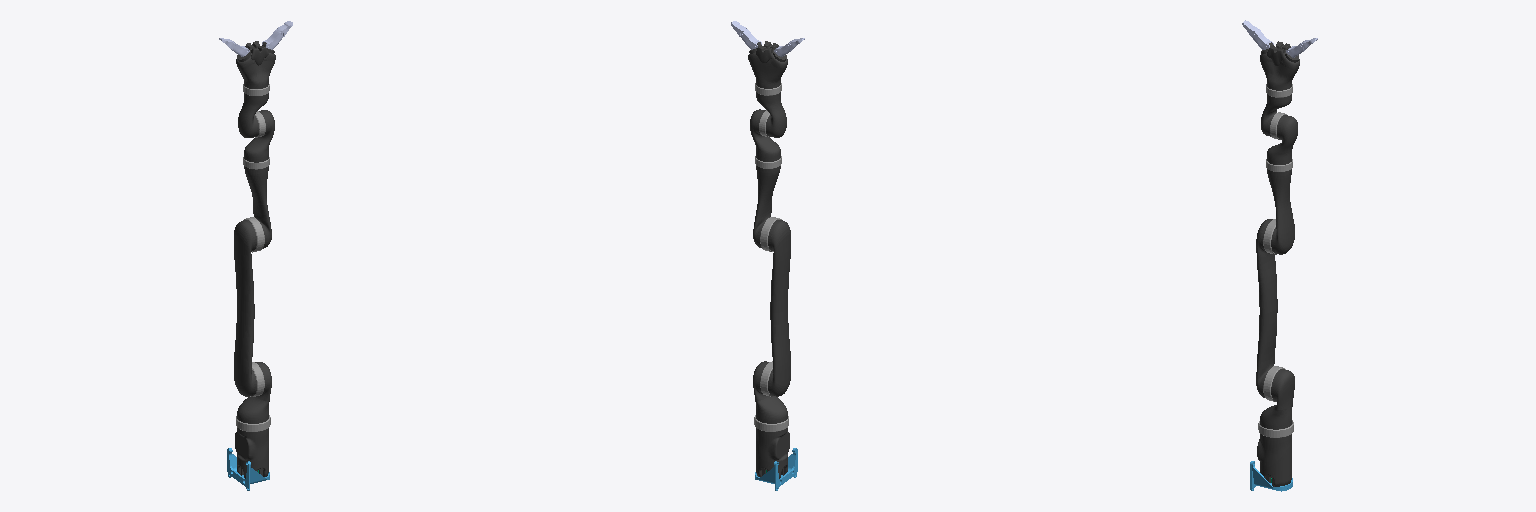
robot.urdf — kinova:
<?xml version="1.0" encoding="utf-8"?>
<!-- =================================================================================== -->
<!-- |    This document was autogenerated by xacro from anymal.urdf.xacro              | -->
<!-- |    EDITING THIS FILE BY HAND IS NOT RECOMMENDED                                 | -->
<!-- =================================================================================== -->
<!-- This file contains the description of the ANYmal Bedi robot. -->
<robot name="kinova"
    xmlns:xacro="http://www.ros.org/wiki/xacro">
    <material name="black">
        <color rgba="0.0 0.0 0.0 1.0"/>
    </material>
    <material name="blue">
        <color rgba="0.0 0.0 0.8 1.0"/>
    </material>
    <material name="green">
        <color rgba="0.0 0.8 0.0 1.0"/>
    </material>
    <material name="grey">
        <color rgba="0.2 0.2 0.2 1.0"/>
    </material>
    <material name="light_grey">
        <color rgba="0.4 0.4 0.4 1.0"/>
    </material>
    <material name="orange">
        <color rgba="1.0 0.423529411765 0.0392156862745 1.0"/>
    </material>
    <material name="brown">
        <color rgba="0.870588235294 0.811764705882 0.764705882353 1.0"/>
    </material>
    <material name="red">
        <color rgba="0.8 0.0 0.0 1.0"/>
    </material>
    <material name="white">
        <color rgba="1.0 1.0 1.0 1.0"/>
    </material>
    <!-- Material for the visual primitives -->
    <material name="anymal_material">
        <color rgba="0.7 0.7 0.7 1.0"/>
    </material>
    <!-- Xacro:Properties -->
    <!-- [m] -->
    <!-- Base link -->
    <link name="base"/>

    <link name="jaco_front_hatch_support_v2">
        <visual>
            <geometry>
                <mesh filename="package://kinova_description/meshes/jaco_front_hatch_support_v2.dae"/>
            </geometry>
        </visual>
    </link>
    <joint name="base_to_jaco_support" type="fixed">
        <parent link="base"/>
        <child link="jaco_front_hatch_support_v2"/>
        <origin rpy="0 0 0" xyz="0 0 0"/>
    </joint>

    <link name="jaco_mounting_block">
        <visual>
            <geometry>
                <mesh filename="package://kinova_description/meshes/jaco_mounting_block.dae"/>
            </geometry>
        </visual>
    </link>
    <joint name="jaco_support_to_jaco_mounting_block" type="fixed">
        <parent link="jaco_front_hatch_support_v2"/>
        <child link="jaco_mounting_block"/>
        <origin rpy="0 0 0" xyz="0.045 0.00 -0.007626"/>
    </joint>

    <link name="j2s6s200_link_base">
        <visual>
            <geometry>
                <mesh filename="package://kinova_description/meshes/base.dae"/>
            </geometry>
            <material name="carbon_fiber">
                <color rgba="0.3 0.3 0.3 1"/>
            </material>
        </visual>
        <collision>
            <geometry>
                <mesh filename="package://kinova_description/meshes/base.dae"/>
            </geometry>
        </collision>
        <inertial>
            <mass value="0.46784"/>
            <origin rpy="0 0 0" xyz="0 0 0.1255"/>
            <inertia ixx="0.000951270861568" ixy="0" ixz="0" iyy="0.000951270861568" iyz="0" izz="0.000374272"/>
        </inertial>
    </link>
    <joint name="jaco_mounting_block_to_j2s6s200_link_base" type="fixed">
        <parent link="jaco_mounting_block"/>
        <child link="j2s6s200_link_base"/>
        <axis xyz="0 0 0"/>
        <limit effort="0" lower="0" upper="0" velocity="0"/>
        <origin rpy="0 0 1.57079632679" xyz="0.000 0.000 0.000"/>
        <dynamics damping="0.0" friction="0.0"/>
    </joint>
    <link name="j2s6s200_link_1">
        <visual>
            <geometry>
                <mesh filename="package://kinova_description/meshes/shoulder.dae"/>
            </geometry>
            <material name="carbon_fiber">
                <color rgba="0.3 0.3 0.3 1"/>
            </material>
        </visual>
        <visual>
            <geometry>
                <mesh filename="package://kinova_description/meshes/ring_big.dae"/>
            </geometry>
        </visual>
        <collision>
            <geometry>
                <mesh filename="package://kinova_description/meshes/shoulder.dae"/>
            </geometry>
        </collision>
        <inertial>
            <mass value="0.7477"/>
            <origin xyz="0 -0.002 -0.0605"/>
            <inertia ixx="0.00152031725204" ixy="0" ixz="0" iyy="0.00152031725204" iyz="0" izz="0.00059816"/>
        </inertial>
    </link>
    <joint name="j2s6s200_joint_1" type="continuous">
        <parent link="j2s6s200_link_base"/>
        <child link="j2s6s200_link_1"/>
        <axis xyz="0 0 1"/>
        <limit effort="40" lower="-6.28318530718" upper="6.28318530718" velocity="0.628318530718"/>
        <origin rpy="0 3.14159265359 0" xyz="0 0 0.15675"/>
        <dynamics damping="0.0" friction="0.0"/>
    </joint>
    <transmission name="j2s6s200_joint_1_trans">
        <type>transmission_interface/SimpleTransmission</type>
        <joint name="j2s6s200_joint_1">
            <hardwareInterface>hardware_interface/EffortJointInterface</hardwareInterface>
        </joint>
        <actuator name="j2s6s200_joint_1_actuator">
            <hardwareInterface>hardware_interface/EffortJointInterface</hardwareInterface>
            <mechanicalReduction>160</mechanicalReduction>
        </actuator>
    </transmission>
    <link name="j2s6s200_link_2">
        <visual>
            <geometry>
                <mesh filename="package://kinova_description/meshes/arm.dae"/>
            </geometry>
            <material name="carbon_fiber">
                <color rgba="0.3 0.3 0.3 1"/>
            </material>
        </visual>
        <visual>
            <geometry>
                <mesh filename="package://kinova_description/meshes/ring_big.dae"/>
            </geometry>
        </visual>
        <collision>
            <geometry>
                <mesh filename="package://kinova_description/meshes/arm.dae"/>
            </geometry>
        </collision>
        <inertial>
            <mass value="0.99"/>
            <origin xyz="0 -0.2065 -0.01"/>
            <inertia ixx="0.010502207991" ixy="0" ixz="0" iyy="0.000792" iyz="0" izz="0.010502207991"/>
        </inertial>
    </link>
    <joint name="j2s6s200_joint_2" type="revolute">
        <parent link="j2s6s200_link_1"/>
        <child link="j2s6s200_link_2"/>
        <axis xyz="0 0 1"/>
        <limit effort="80" lower="0.820304748437" upper="5.46288055874" velocity="0.628318530718"/>
        <origin rpy="-1.57079632679 0 3.14159265359" xyz="0 0.0016 -0.11875"/>
        <dynamics damping="0.0" friction="0.0"/>
    </joint>
    <transmission name="j2s6s200_joint_2_trans">
        <type>transmission_interface/SimpleTransmission</type>
        <joint name="j2s6s200_joint_2">
            <hardwareInterface>hardware_interface/EffortJointInterface</hardwareInterface>
        </joint>
        <actuator name="j2s6s200_joint_2_actuator">
            <hardwareInterface>hardware_interface/EffortJointInterface</hardwareInterface>
            <mechanicalReduction>160</mechanicalReduction>
        </actuator>
    </transmission>
    <link name="j2s6s200_link_3">
        <visual>
            <geometry>
                <mesh filename="package://kinova_description/meshes/forearm.dae"/>
            </geometry>
            <material name="carbon_fiber">
                <color rgba="0.3 0.3 0.3 1"/>
            </material>
        </visual>
        <visual>
            <geometry>
                <mesh filename="package://kinova_description/meshes/ring_big.dae"/>
            </geometry>
        </visual>
        <collision>
            <geometry>
                <mesh filename="package://kinova_description/meshes/forearm.dae"/>
            </geometry>
        </collision>
        <inertial>
            <mass value="0.6763"/>
            <origin xyz="0 0.081 -0.0086"/>
            <inertia ixx="0.00142022431908" ixy="0" ixz="0" iyy="0.000304335" iyz="0" izz="0.00142022431908"/>
        </inertial>
    </link>
    <joint name="j2s6s200_joint_3" type="revolute">
        <parent link="j2s6s200_link_2"/>
        <child link="j2s6s200_link_3"/>
        <axis xyz="0 0 1"/>
        <limit effort="40" lower="0.331612557879" upper="5.9515727493" velocity="0.628318530718"/>
        <origin rpy="0 3.14159265359 0" xyz="0 -0.410 0"/>
        <dynamics damping="0.0" friction="0.0"/>
    </joint>
    <transmission name="j2s6s200_joint_3_trans">
        <type>transmission_interface/SimpleTransmission</type>
        <joint name="j2s6s200_joint_3">
            <hardwareInterface>hardware_interface/EffortJointInterface</hardwareInterface>
        </joint>
        <actuator name="j2s6s200_joint_3_actuator">
            <hardwareInterface>hardware_interface/EffortJointInterface</hardwareInterface>
            <mechanicalReduction>160</mechanicalReduction>
        </actuator>
    </transmission>
    <link name="j2s6s200_link_4">
        <visual>
            <geometry>
                <mesh filename="package://kinova_description/meshes/wrist_spherical_1.dae"/>
            </geometry>
            <material name="carbon_fiber">
                <color rgba="0.3 0.3 0.3 1"/>
            </material>
        </visual>
        <visual>
            <geometry>
                <mesh filename="package://kinova_description/meshes/ring_small.dae"/>
            </geometry>
        </visual>
        <collision>
            <geometry>
                <mesh filename="package://kinova_description/meshes/wrist_spherical_1.dae"/>
            </geometry>
        </collision>
        <inertial>
            <mass value="0.463"/>
            <origin xyz="0 0.0028848942 -0.0541932613"/>
            <inertia ixx="0.0004321316048" ixy="0" ixz="0" iyy="0.0004321316048" iyz="0" izz="9.26e-05"/>
        </inertial>
    </link>
    <joint name="j2s6s200_joint_4" type="continuous">
        <parent link="j2s6s200_link_3"/>
        <child link="j2s6s200_link_4"/>
        <axis xyz="0 0 1"/>
        <limit effort="20" lower="-6.28318530718" upper="6.28318530718" velocity="0.837758040957"/>
        <origin rpy="-1.57079632679 0 3.14159265359" xyz="0 0.2073 -0.0114"/>
        <dynamics damping="0.0" friction="0.0"/>
    </joint>
    <transmission name="j2s6s200_joint_4_trans">
        <type>transmission_interface/SimpleTransmission</type>
        <joint name="j2s6s200_joint_4">
            <hardwareInterface>hardware_interface/EffortJointInterface</hardwareInterface>
        </joint>
        <actuator name="j2s6s200_joint_4_actuator">
            <hardwareInterface>hardware_interface/EffortJointInterface</hardwareInterface>
            <mechanicalReduction>160</mechanicalReduction>
        </actuator>
    </transmission>
    <link name="j2s6s200_link_5">
        <visual>
            <geometry>
                <mesh filename="package://kinova_description/meshes/wrist_spherical_2.dae"/>
            </geometry>
            <material name="carbon_fiber">
                <color rgba="0.3 0.3 0.3 1"/>
            </material>
        </visual>
        <visual>
            <geometry>
                <mesh filename="package://kinova_description/meshes/ring_small.dae"/>
            </geometry>
        </visual>
        <collision>
            <geometry>
                <mesh filename="package://kinova_description/meshes/wrist_spherical_2.dae"/>
            </geometry>
        </collision>
        <inertial>
            <mass value="0.463"/>
            <origin xyz="0 0.0497208855 -0.0028562765"/>
            <inertia ixx="0.0004321316048" ixy="0" ixz="0" iyy="9.26e-05" iyz="0" izz="0.0004321316048"/>
        </inertial>
    </link>
    <joint name="j2s6s200_joint_5" type="revolute">
        <parent link="j2s6s200_link_4"/>
        <child link="j2s6s200_link_5"/>
        <axis xyz="0 0 1"/>
        <limit effort="20" lower="0.523598775598" upper="5.75958653158" velocity="0.837758040957"/>
        <origin rpy="1.57079632679 0 3.14159265359" xyz="0 0 -0.10375"/>
        <dynamics damping="0.0" friction="0.0"/>
    </joint>
    <transmission name="j2s6s200_joint_5_trans">
        <type>transmission_interface/SimpleTransmission</type>
        <joint name="j2s6s200_joint_5">
            <hardwareInterface>hardware_interface/EffortJointInterface</hardwareInterface>
        </joint>
        <actuator name="j2s6s200_joint_5_actuator">
            <hardwareInterface>hardware_interface/EffortJointInterface</hardwareInterface>
            <mechanicalReduction>160</mechanicalReduction>
        </actuator>
    </transmission>
    <link name="j2s6s200_link_6">
        <visual>
            <geometry>
                <mesh filename="package://kinova_description/meshes/hand_2finger.dae"/>
            </geometry>
            <material name="carbon_fiber">
                <color rgba="0.3 0.3 0.3 1"/>
            </material>
        </visual>
        <visual>
            <geometry>
                <mesh filename="package://kinova_description/meshes/ring_small.dae"/>
            </geometry>
        </visual>
        <collision>
            <geometry>
                <mesh filename="package://kinova_description/meshes/hand_2finger.dae"/>
            </geometry>
        </collision>
        <inertial>
            <mass value="0.99"/>
            <origin xyz="0 0 -0.06"/>
            <inertia ixx="0.0003453236187" ixy="0" ixz="0" iyy="0.0003453236187" iyz="0" izz="0.0005816"/>
        </inertial>
    </link>
    <joint name="j2s6s200_joint_6" type="continuous">
        <parent link="j2s6s200_link_5"/>
        <child link="j2s6s200_link_6"/>
        <axis xyz="0 0 1"/>
        <limit effort="20" lower="-6.28318530718" upper="6.28318530718" velocity="0.837758040957"/>
        <origin rpy="-1.57079632679 0 3.14159265359" xyz="0 0.10375 0"/>
        <dynamics damping="0.0" friction="0.0"/>
    </joint>
    <transmission name="j2s6s200_joint_6_trans">
        <type>transmission_interface/SimpleTransmission</type>
        <joint name="j2s6s200_joint_6">
            <hardwareInterface>hardware_interface/EffortJointInterface</hardwareInterface>
        </joint>
        <actuator name="j2s6s200_joint_6_actuator">
            <hardwareInterface>hardware_interface/EffortJointInterface</hardwareInterface>
            <mechanicalReduction>160</mechanicalReduction>
        </actuator>
    </transmission>
    <link name="j2s6s200_end_effector"/>
    <joint name="j2s6s200_joint_end_effector" type="fixed">
        <parent link="j2s6s200_link_6"/>
        <child link="j2s6s200_end_effector"/>
        <axis xyz="0 0 0"/>
        <limit effort="2000" lower="0" upper="0" velocity="1"/>
        <!-- <origin rpy="3.14159265359 0 1.57079632679" xyz="0 0 -0.1600"/> -->
        <origin rpy="3.14159265359 1.57079632679 0" xyz="0 0 -0.1600"/>
    </joint>
    <link name="j2s6s200_link_finger_1">
        <visual>
            <geometry>
                <mesh filename="package://kinova_description/meshes/finger_proximal.dae"/>
            </geometry>
            <material name="carbon_fiber">
                <color rgba="0.792156862745098 0.819607843137255 0.933333333333333 1"/>
            </material>
        </visual>
        <collision>
            <geometry>
                <mesh filename="package://kinova_description/meshes/finger_proximal.dae"/>
            </geometry>
        </collision>
        <inertial>
            <mass value="0.01"/>
            <origin xyz="0.022 0 0"/>
            <inertia ixx="7.8999684e-07" ixy="0" ixz="0" iyy="7.8999684e-07" iyz="0" izz="8e-08"/>
        </inertial>
    </link>
    <joint name="j2s6s200_joint_finger_1" type="fixed">
        <parent link="j2s6s200_link_6"/>
        <child link="j2s6s200_link_finger_1"/>
        <axis xyz="0 0 1"/>
        <origin rpy="-1.570796327 .649262481663582 1.57079632679490" xyz="-0.0025 0.03095 -0.11482"/>
        <limit effort="2" lower="0" upper="1.51" velocity="1"/>
    </joint>
    <transmission name="j2s6s200_joint_finger_1_trans">
        <type>transmission_interface/SimpleTransmission</type>
        <joint name="j2s6s200_joint_finger_1">
            <hardwareInterface>hardware_interface/EffortJointInterface</hardwareInterface>
        </joint>
        <actuator name="j2s6s200_joint_finger_1_actuator">
            <hardwareInterface>hardware_interface/EffortJointInterface</hardwareInterface>
            <mechanicalReduction>1</mechanicalReduction>
        </actuator>
    </transmission>
    <link name="j2s6s200_link_finger_tip_1">
        <visual>
            <geometry>
                <mesh filename="package://kinova_description/meshes/finger_distal.dae"/>
            </geometry>
            <material name="carbon_fiber">
                <color rgba="0.792156862745098 0.819607843137255 0.933333333333333 1"/>
            </material>
        </visual>
        <collision>
            <geometry>
                <mesh filename="package://kinova_description/meshes/finger_distal.dae"/>
            </geometry>
        </collision>
        <inertial>
            <mass value="0.01"/>
            <origin xyz="0.022 0 0"/>
            <inertia ixx="7.8999684e-07" ixy="0" ixz="0" iyy="7.8999684e-07" iyz="0" izz="8e-08"/>
        </inertial>
    </link>
    <joint name="j2s6s200_joint_finger_tip_1" type="fixed">
        <parent link="j2s6s200_link_finger_1"/>
        <child link="j2s6s200_link_finger_tip_1"/>
        <axis xyz="0 0 1"/>
        <origin rpy="0 0 0" xyz="0.044 -0.003 0"/>
        <limit effort="2" lower="0" upper="2" velocity="1"/>
    </joint>
    <transmission name="j2s6s200_joint_finger_tip_1_trans">
        <type>transmission_interface/SimpleTransmission</type>
        <joint name="j2s6s200_joint_finger_tip_1">
            <hardwareInterface>hardware_interface/EffortJointInterface</hardwareInterface>
        </joint>
        <actuator name="j2s6s200_joint_finger_tip_1_actuator">
            <hardwareInterface>hardware_interface/EffortJointInterface</hardwareInterface>
            <mechanicalReduction>1</mechanicalReduction>
        </actuator>
    </transmission>
    <link name="j2s6s200_link_finger_2">
        <visual>
            <geometry>
                <mesh filename="package://kinova_description/meshes/finger_proximal.dae"/>
            </geometry>
            <material name="carbon_fiber">
                <color rgba="0.792156862745098 0.819607843137255 0.933333333333333 1"/>
            </material>
        </visual>
        <collision>
            <geometry>
                <mesh filename="package://kinova_description/meshes/finger_proximal.dae"/>
            </geometry>
        </collision>
        <inertial>
            <mass value="0.01"/>
            <origin xyz="0.022 0 0"/>
            <inertia ixx="7.8999684e-07" ixy="0" ixz="0" iyy="7.8999684e-07" iyz="0" izz="8e-08"/>
        </inertial>
    </link>
    <joint name="j2s6s200_joint_finger_2" type="fixed">
        <parent link="j2s6s200_link_6"/>
        <child link="j2s6s200_link_finger_2"/>
        <axis xyz="0 0 1"/>
        <origin rpy="-1.570796327 .649262481663582 -1.57079632679490" xyz="-0.0025 -0.03095 -0.11482"/>
        <limit effort="2" lower="0" upper="1.51" velocity="1"/>
    </joint>
    <transmission name="j2s6s200_joint_finger_2_trans">
        <type>transmission_interface/SimpleTransmission</type>
        <joint name="j2s6s200_joint_finger_2">
            <hardwareInterface>hardware_interface/EffortJointInterface</hardwareInterface>
        </joint>
        <actuator name="j2s6s200_joint_finger_2_actuator">
            <hardwareInterface>hardware_interface/EffortJointInterface</hardwareInterface>
            <mechanicalReduction>1</mechanicalReduction>
        </actuator>
    </transmission>
    <link name="j2s6s200_link_finger_tip_2">
        <visual>
            <geometry>
                <mesh filename="package://kinova_description/meshes/finger_distal.dae"/>
            </geometry>
            <material name="carbon_fiber">
                <color rgba="0.792156862745098 0.819607843137255 0.933333333333333 1"/>
            </material>
        </visual>
        <collision>
            <geometry>
                <mesh filename="package://kinova_description/meshes/finger_distal.dae"/>
            </geometry>
        </collision>
        <inertial>
            <mass value="0.01"/>
            <origin xyz="0.022 0 0"/>
            <inertia ixx="7.8999684e-07" ixy="0" ixz="0" iyy="7.8999684e-07" iyz="0" izz="8e-08"/>
        </inertial>
    </link>
    <joint name="j2s6s200_joint_finger_tip_2" type="fixed">
        <parent link="j2s6s200_link_finger_2"/>
        <child link="j2s6s200_link_finger_tip_2"/>
        <axis xyz="0 0 1"/>
        <origin rpy="0 0 0" xyz="0.044 -0.003 0"/>
        <limit effort="2" lower="0" upper="2" velocity="1"/>
    </joint>
    <transmission name="j2s6s200_joint_finger_tip_2_trans">
        <type>transmission_interface/SimpleTransmission</type>
        <joint name="j2s6s200_joint_finger_tip_2">
            <hardwareInterface>hardware_interface/EffortJointInterface</hardwareInterface>
        </joint>
        <actuator name="j2s6s200_joint_finger_tip_2_actuator">
            <hardwareInterface>hardware_interface/EffortJointInterface</hardwareInterface>
            <mechanicalReduction>1</mechanicalReduction>
        </actuator>
    </transmission>
</robot>

--- Facts derived from the render (not from the file) ---
The picture shows the robot from 3 angles, left to right: view 1: azimuth 30°, elevation 25°; view 2: azimuth 150°, elevation 25°; view 3: azimuth 330°, elevation 25°; orthographic projection.
Robot: kinova — 15 links, 14 joints (3 revolute, 3 continuous, 8 fixed); root link base; default pose: all joints at 0 but 3 set to mid-range because 0 is outside their limits (j2s6s200_joint_2 = 3.14, j2s6s200_joint_3 = 3.14, j2s6s200_joint_5 = 3.14).
Links seen in each view (by area): view 1: j2s6s200_link_2, j2s6s200_link_6, j2s6s200_link_3, j2s6s200_link_base, j2s6s200_link_1, j2s6s200_link_5, j2s6s200_link_4, jaco_front_hatch_support_v2; view 2: j2s6s200_link_2, j2s6s200_link_6, j2s6s200_link_3, j2s6s200_link_base, j2s6s200_link_1, j2s6s200_link_5, j2s6s200_link_4, jaco_front_hatch_support_v2; view 3: j2s6s200_link_2, j2s6s200_link_3, j2s6s200_link_1, j2s6s200_link_6, j2s6s200_link_base, j2s6s200_link_4, j2s6s200_link_5.
Boxes of the visible links, x1,y1,x2,y2 form: j2s6s200_link_2: [234, 220, 264, 396]; j2s6s200_link_6: [236, 41, 275, 95]; j2s6s200_link_3: [243, 166, 271, 252]; j2s6s200_link_base: [235, 428, 268, 478]; j2s6s200_link_1: [236, 362, 271, 431]; j2s6s200_link_5: [238, 93, 268, 137]; j2s6s200_link_4: [243, 110, 274, 169]; jaco_front_hatch_support_v2: [227, 448, 269, 490]; j2s6s200_link_2: [760, 220, 790, 396]; j2s6s200_link_6: [748, 41, 787, 95]; j2s6s200_link_3: [753, 166, 781, 251]; j2s6s200_link_base: [756, 428, 789, 478]; j2s6s200_link_1: [753, 361, 788, 431]; j2s6s200_link_5: [756, 92, 786, 137]; j2s6s200_link_4: [750, 109, 781, 168]; jaco_front_hatch_support_v2: [755, 448, 797, 490]; j2s6s200_link_2: [1256, 219, 1285, 401]; j2s6s200_link_3: [1263, 169, 1294, 254]; j2s6s200_link_1: [1258, 369, 1294, 437]; j2s6s200_link_6: [1260, 41, 1299, 97]; j2s6s200_link_base: [1257, 434, 1291, 486]; j2s6s200_link_4: [1266, 115, 1297, 171]; j2s6s200_link_5: [1261, 94, 1291, 139].
Size in the robot's own frame: 0.2123 by 0.109 by 1.28 metres.
19 mesh visuals loaded from 13 distinct referenced files (13 Collada DAE).